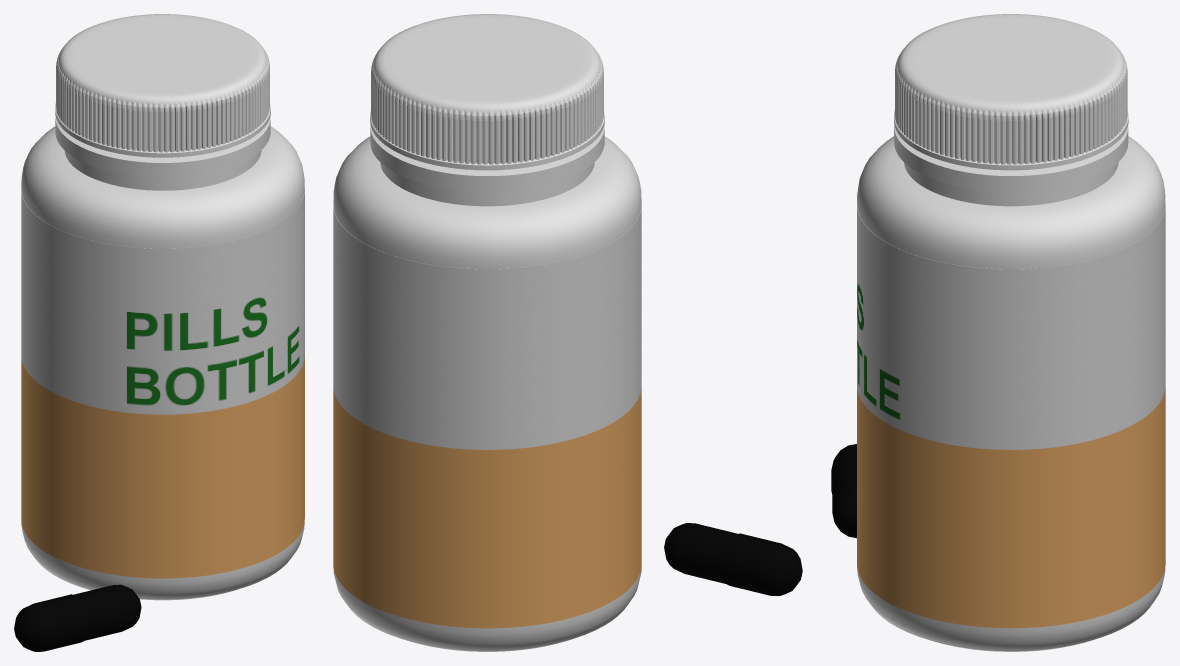
The model's file is pillBottle.glb.
3 views of the same model, side by side, from view 1: azimuth 30°, elevation 25°; view 2: azimuth 150°, elevation 25°; view 3: azimuth 270°, elevation 25° (orthographic). The views are drawn at different scales.
Parts seen in each view (by area): view 1: SM_Medical_bottle_P01, SM_Medical_bottle_P02, SM_Medical_bottle_P04; view 2: SM_Medical_bottle_P01, SM_Medical_bottle_P02, SM_Medical_bottle_P04; view 3: SM_Medical_bottle_P01, SM_Medical_bottle_P02, SM_Medical_bottle_P04.
Boxes of the visible parts, <box> form: SM_Medical_bottle_P01: <box>21,116,304,600</box>; SM_Medical_bottle_P02: <box>55,14,270,157</box>; SM_Medical_bottle_P04: <box>14,584,141,651</box>; SM_Medical_bottle_P01: <box>333,124,641,651</box>; SM_Medical_bottle_P02: <box>370,14,604,170</box>; SM_Medical_bottle_P04: <box>664,523,802,595</box>; SM_Medical_bottle_P01: <box>857,125,1165,651</box>; SM_Medical_bottle_P02: <box>894,14,1128,170</box>; SM_Medical_bottle_P04: <box>831,444,856,538</box>.
Size of the model in its own units: 0.0677 by 0.0946 by 0.0531.
Materials: 1 (1 with a texture image).
